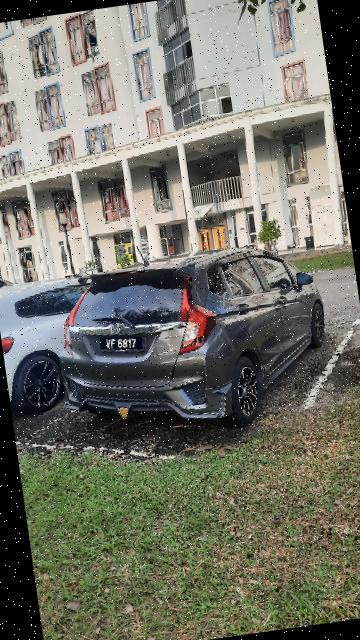License_Plate: (91, 324, 156, 360)
car: (57, 236, 342, 449)
